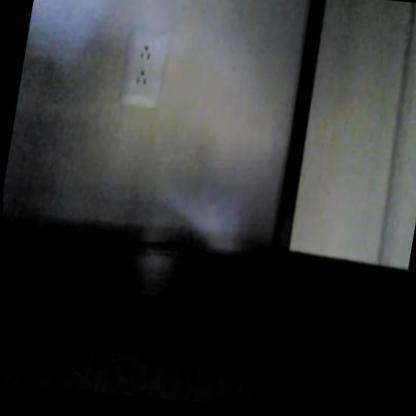OUTLET: (114, 22, 173, 112)
